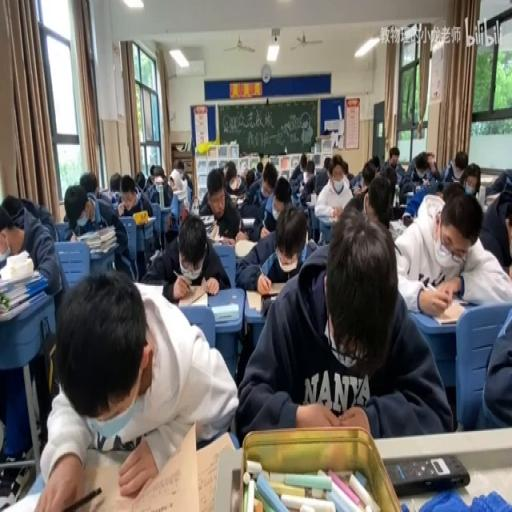calculator: (193, 429, 236, 512), (245, 284, 284, 312), (430, 298, 467, 324), (212, 300, 238, 322), (182, 288, 208, 306), (234, 238, 257, 258), (134, 213, 157, 226), (215, 233, 234, 246), (205, 222, 218, 240), (388, 222, 403, 237), (0, 247, 9, 269), (200, 213, 214, 225), (241, 215, 256, 226), (322, 214, 338, 224), (307, 192, 317, 205), (149, 248, 158, 260), (98, 185, 107, 193), (405, 191, 414, 199)
paper: (237, 206, 447, 441), (36, 266, 238, 508), (0, 193, 64, 461), (392, 185, 510, 309), (144, 212, 228, 299), (63, 180, 133, 282), (473, 291, 511, 431), (354, 172, 400, 230), (250, 166, 288, 236), (158, 162, 186, 228), (402, 150, 438, 200), (294, 156, 326, 206), (117, 182, 152, 219), (220, 160, 246, 204), (483, 168, 512, 203), (442, 148, 467, 183), (347, 155, 369, 191), (0, 192, 25, 223), (1, 224, 22, 254), (80, 169, 98, 199), (440, 182, 463, 205), (384, 145, 402, 174), (108, 170, 122, 200), (288, 171, 302, 195), (146, 181, 160, 202), (134, 170, 146, 190), (182, 172, 193, 192), (245, 168, 254, 189), (370, 155, 380, 171), (322, 155, 331, 172), (174, 161, 184, 175), (299, 154, 307, 170), (305, 170, 314, 184), (342, 161, 349, 176), (149, 164, 156, 179), (167, 175, 174, 188), (256, 161, 262, 175)
person: (386, 452, 470, 494), (230, 468, 242, 510), (402, 213, 412, 226)
